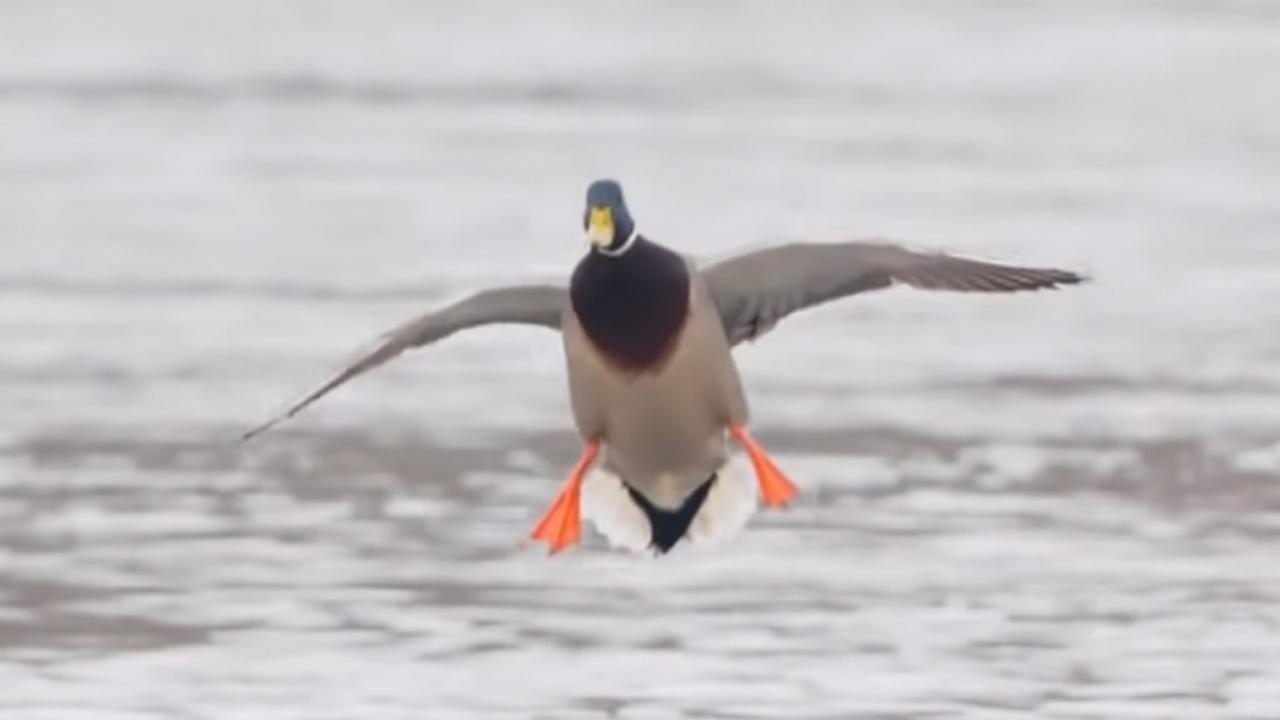Bird: (227, 169, 1101, 568)
